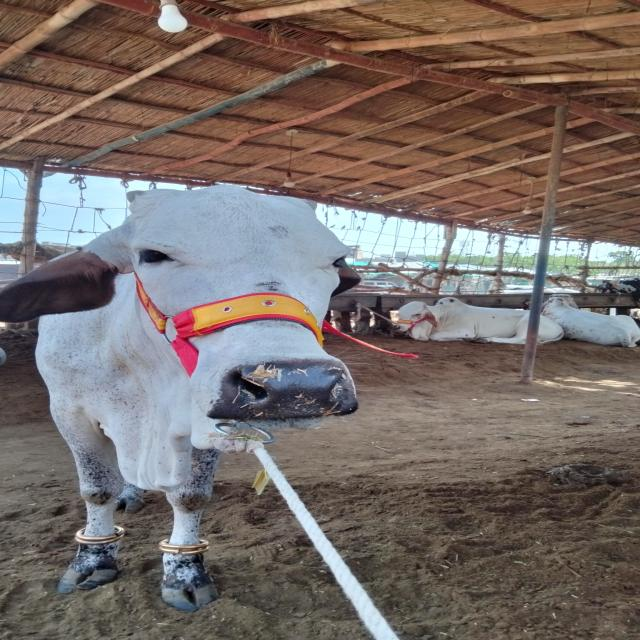muzzles: (225, 359, 358, 422)
